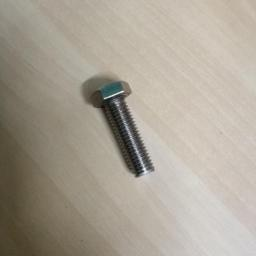screwtype2silver: (89, 79, 158, 183)
